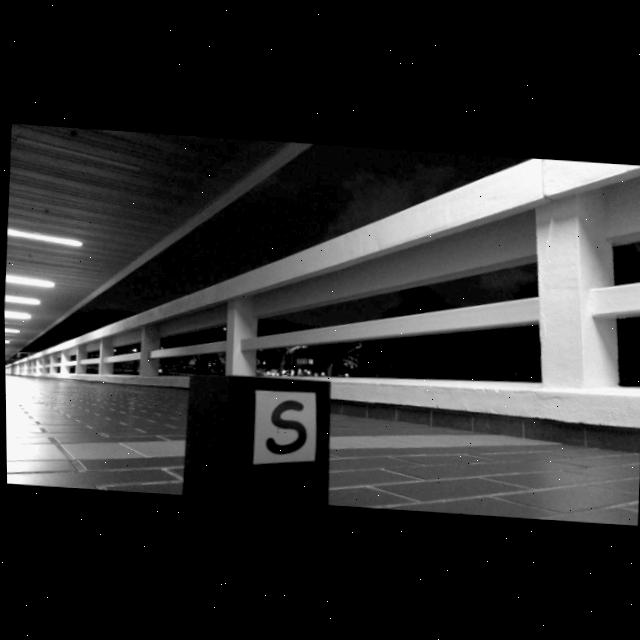S: (264, 400, 306, 454)
